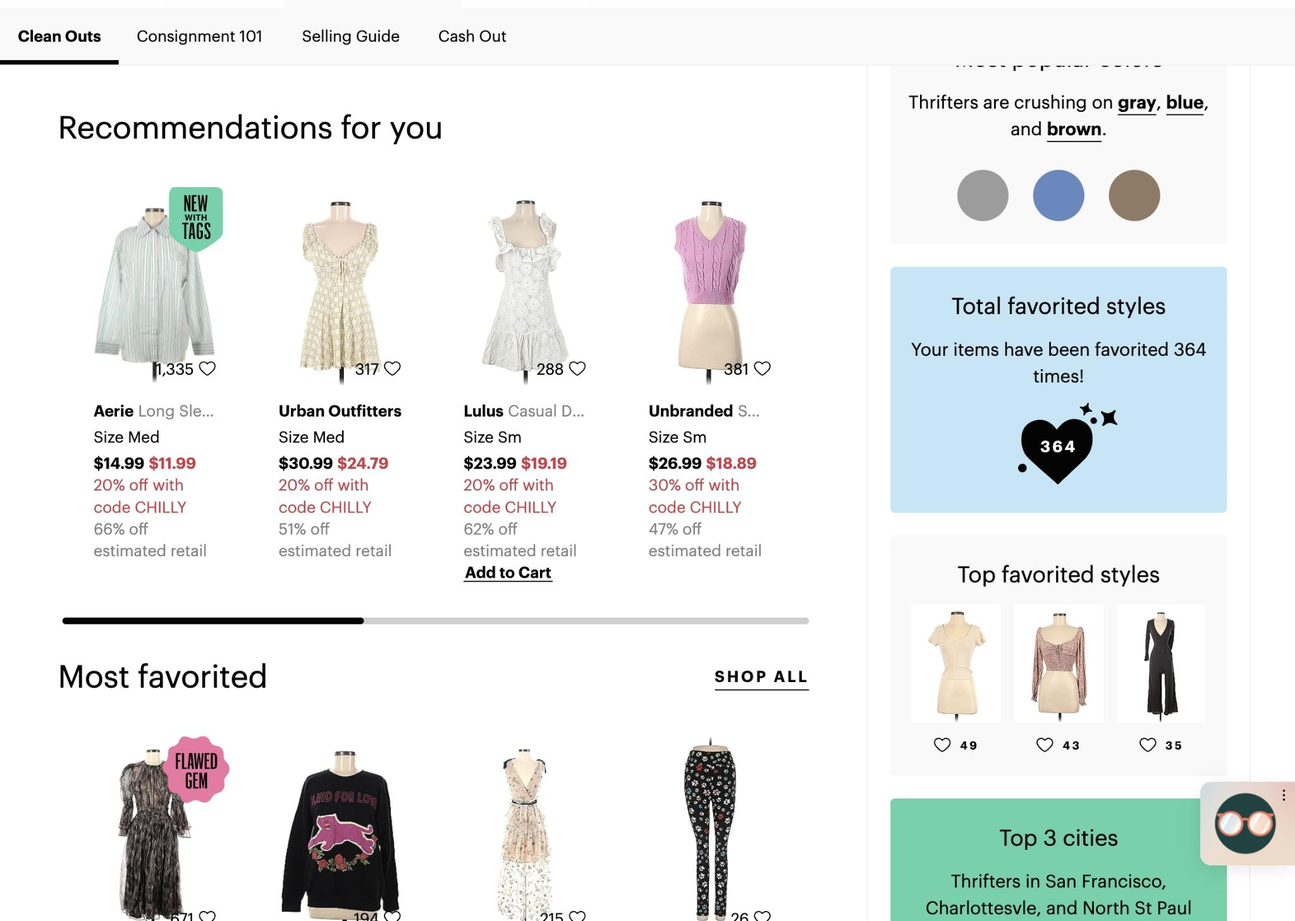webelement: (43, 96, 825, 645), (43, 646, 825, 921), (975, 91, 1229, 345), (75, 182, 233, 590), (260, 182, 418, 590), (445, 182, 603, 590), (630, 182, 788, 590), (815, 182, 973, 590), (1000, 182, 1158, 590), (1185, 182, 1295, 590), (75, 731, 233, 921), (260, 731, 418, 921), (445, 731, 603, 921), (630, 731, 788, 921), (815, 731, 973, 921), (1000, 731, 1158, 921), (264, 186, 414, 385), (819, 186, 969, 385), (79, 186, 228, 385), (449, 186, 598, 385), (634, 186, 783, 385), (1004, 186, 1153, 385), (486, 415, 807, 506), (264, 735, 414, 921), (819, 735, 969, 921), (79, 735, 228, 921), (449, 735, 598, 921), (634, 735, 783, 921), (1004, 735, 1153, 921), (1189, 186, 1295, 385), (1185, 731, 1295, 921), (1189, 735, 1295, 921), (908, 88, 1208, 142), (908, 867, 1208, 921), (908, 336, 1208, 389), (1080, 150, 1290, 223), (872, 150, 1080, 223), (915, 9, 1018, 112), (1116, 603, 1205, 722), (911, 603, 999, 722), (1014, 603, 1102, 722), (1054, 38, 1246, 89), (998, 402, 1117, 484), (119, 6, 280, 64), (93, 452, 215, 517), (278, 452, 400, 517), (463, 452, 585, 517), (648, 452, 770, 517), (833, 452, 955, 517), (1018, 452, 1140, 517), (283, 6, 416, 64), (0, 6, 118, 64), (1203, 452, 1295, 517), (420, 6, 523, 64), (64, 91, 231, 121), (723, 431, 881, 461), (64, 398, 217, 428), (832, 518, 946, 558), (93, 518, 206, 558), (278, 518, 391, 558), (463, 518, 576, 558), (648, 518, 761, 558), (1018, 518, 1131, 558), (64, 330, 217, 359), (162, 186, 228, 253), (162, 735, 228, 802), (278, 391, 400, 423), (1018, 391, 1140, 423), (142, 346, 229, 390), (1203, 518, 1295, 558), (723, 193, 844, 223), (64, 126, 174, 156), (523, 346, 598, 390), (893, 346, 968, 390), (1078, 346, 1153, 390), (709, 346, 783, 390), (341, 346, 414, 390), (724, 261, 828, 290), (64, 297, 167, 326), (322, 330, 425, 359), (1203, 391, 1295, 423), (955, 168, 1009, 221), (48, 374, 101, 427), (768, 374, 821, 427), (1031, 168, 1084, 221), (1107, 168, 1160, 221), (723, 330, 817, 359), (64, 227, 154, 257), (648, 391, 732, 423), (64, 262, 149, 292), (64, 364, 146, 394), (714, 665, 808, 690), (724, 227, 801, 257), (907, 242, 1005, 265), (907, 337, 1005, 360), (723, 125, 797, 155), (64, 160, 140, 189), (724, 160, 799, 189), (1077, 894, 1153, 921), (322, 125, 390, 155), (339, 894, 414, 921), (322, 363, 389, 393), (525, 894, 598, 921), (895, 894, 968, 921), (156, 894, 228, 921), (717, 894, 783, 921), (322, 296, 381, 325), (322, 261, 378, 290), (463, 563, 551, 581), (1203, 563, 1291, 581), (907, 406, 972, 429), (1262, 346, 1295, 390), (724, 296, 771, 325), (723, 398, 768, 428), (1045, 117, 1100, 141), (907, 305, 963, 328), (93, 391, 132, 423), (463, 391, 502, 423), (64, 194, 107, 223), (322, 227, 362, 257), (322, 160, 363, 189), (278, 451, 332, 473), (463, 451, 516, 473), (648, 451, 701, 473), (833, 451, 886, 473), (907, 273, 957, 296), (93, 451, 144, 473), (337, 451, 388, 473), (1072, 451, 1123, 473), (705, 451, 755, 473), (891, 451, 941, 473), (1018, 451, 1068, 473), (1202, 451, 1252, 473), (833, 391, 866, 423), (148, 451, 195, 473), (519, 451, 565, 473), (322, 193, 355, 223), (523, 125, 556, 155), (523, 160, 557, 189), (723, 363, 755, 393), (1117, 90, 1154, 114), (1165, 90, 1202, 114), (1257, 451, 1295, 473), (155, 359, 193, 377), (1271, 894, 1295, 921), (536, 359, 563, 377), (906, 359, 933, 377), (1091, 359, 1118, 377), (722, 359, 747, 377), (354, 359, 378, 377), (785, 388, 805, 407), (1090, 908, 1118, 921), (65, 388, 84, 407), (1276, 359, 1295, 377), (352, 908, 377, 921), (197, 359, 215, 377), (567, 359, 585, 377), (752, 359, 770, 377), (937, 359, 955, 377), (1122, 359, 1140, 377), (932, 735, 950, 753), (1035, 735, 1053, 753), (1138, 735, 1156, 753), (539, 908, 563, 921), (909, 908, 933, 921), (383, 359, 400, 377), (169, 908, 192, 921), (197, 908, 215, 921), (567, 908, 585, 921), (730, 908, 748, 921), (752, 908, 770, 921), (937, 908, 955, 921), (1122, 908, 1140, 921), (773, 434, 788, 449), (383, 908, 400, 921), (1284, 908, 1294, 921)
